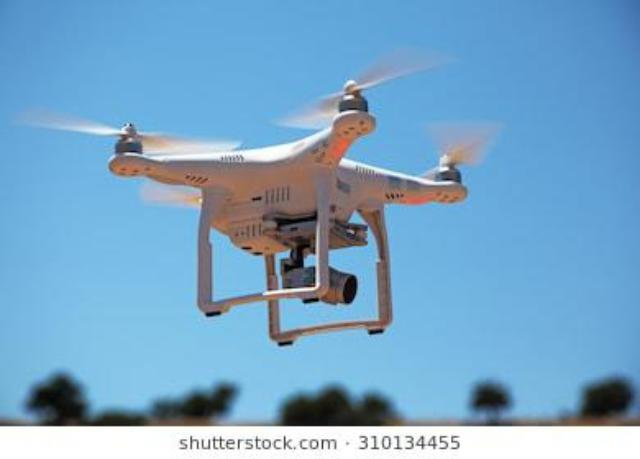drone: (0, 26, 640, 459)
